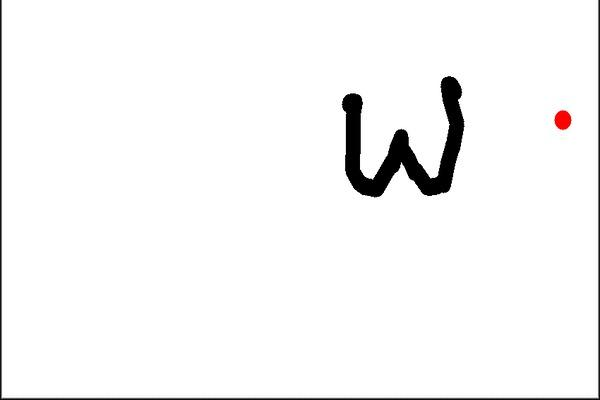w: (330, 63, 475, 214)
